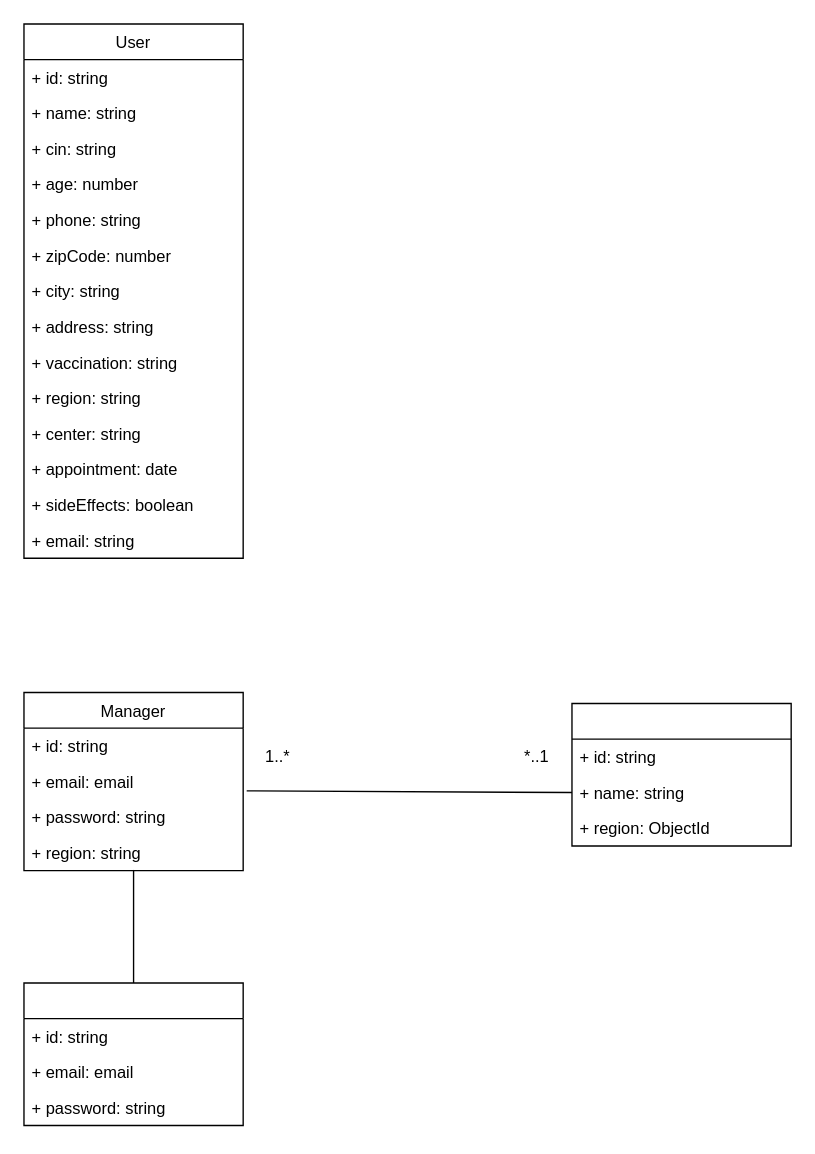
Some shapes in this 815 by 1154 pixel diagram are drawn without their labels. Each missing label, with the box of its shape:
Admin: (23, 982, 243, 1125)
Center: (571, 702, 791, 846)
